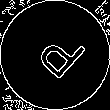P_SW: (24, 24, 86, 86)
